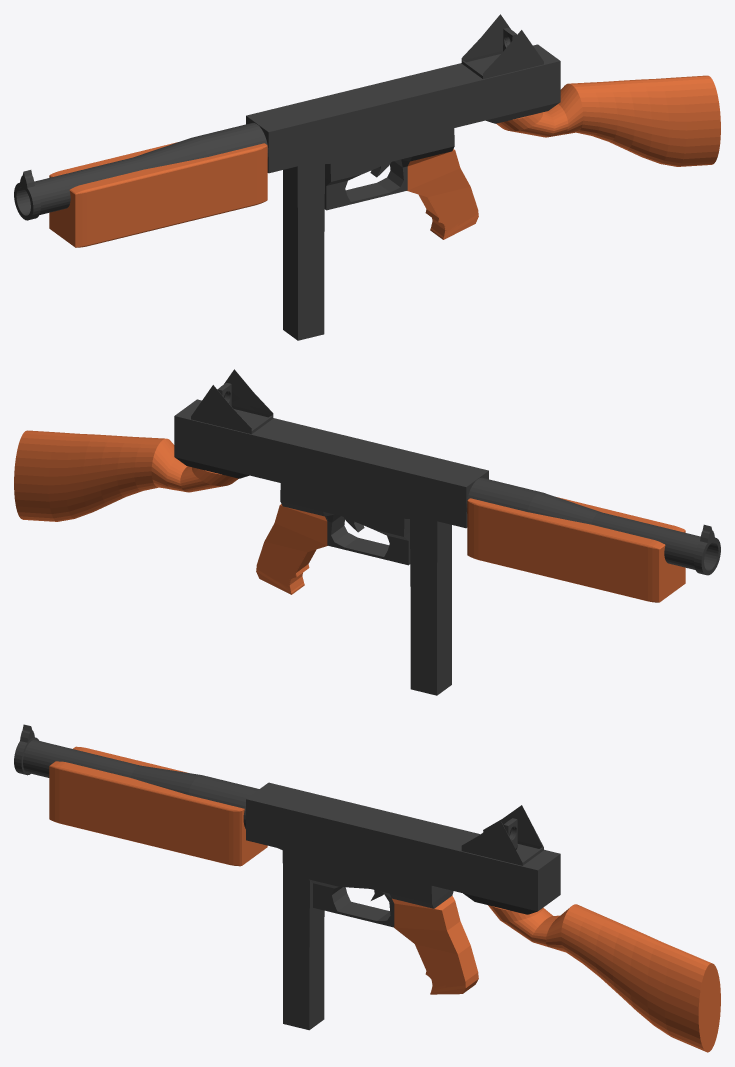
File: Thompson.fbx
3 views of the same model, one above another, from view 1: azimuth 30°, elevation 25°; view 2: azimuth 150°, elevation 25°; view 3: azimuth 330°, elevation 25° (orthographic).
Visible parts, largest first — view 1: Body, BarrelHandel, Stock, Barrel, handle, ironSight; view 2: Body, BarrelHandel, Stock, Barrel, handle, ironSight; view 3: Body, Stock, BarrelHandel, Barrel, handle, ironSight.
Boxes of the visible parts, left/top/right/bottom form: Body: left=246, top=44, right=560, bottom=340; BarrelHandel: left=49, top=142, right=267, bottom=247; Stock: left=496, top=75, right=720, bottom=166; Barrel: left=14, top=123, right=268, bottom=220; handle: left=407, top=149, right=478, bottom=239; ironSight: left=461, top=14, right=543, bottom=78; Body: left=174, top=399, right=488, bottom=695; BarrelHandel: left=467, top=497, right=685, bottom=602; Stock: left=14, top=430, right=238, bottom=521; Barrel: left=466, top=477, right=720, bottom=575; handle: left=256, top=504, right=327, bottom=594; ironSight: left=191, top=369, right=273, bottom=434; Body: left=246, top=782, right=560, bottom=1030; Stock: left=488, top=904, right=720, bottom=1052; BarrelHandel: left=49, top=746, right=267, bottom=866; Barrel: left=14, top=724, right=259, bottom=828; handle: left=392, top=895, right=478, bottom=994; ironSight: left=461, top=805, right=543, bottom=865.
Size of the model in its own units: 2256 by 815 by 158.
